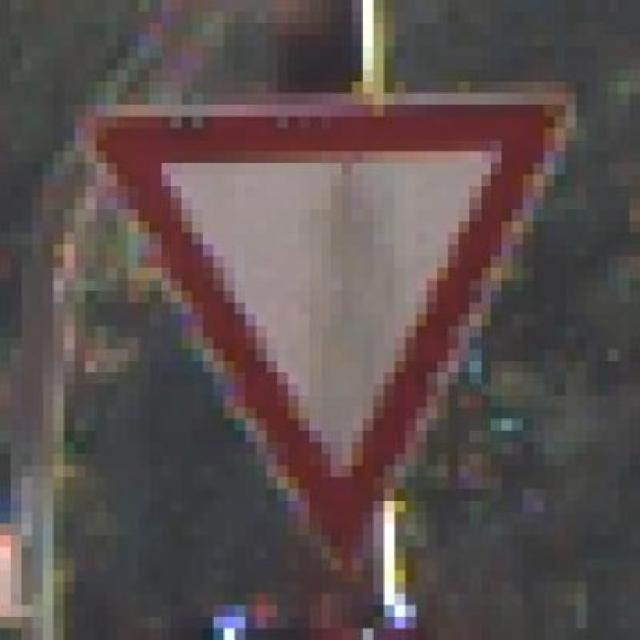Give Way: (64, 70, 608, 582)
